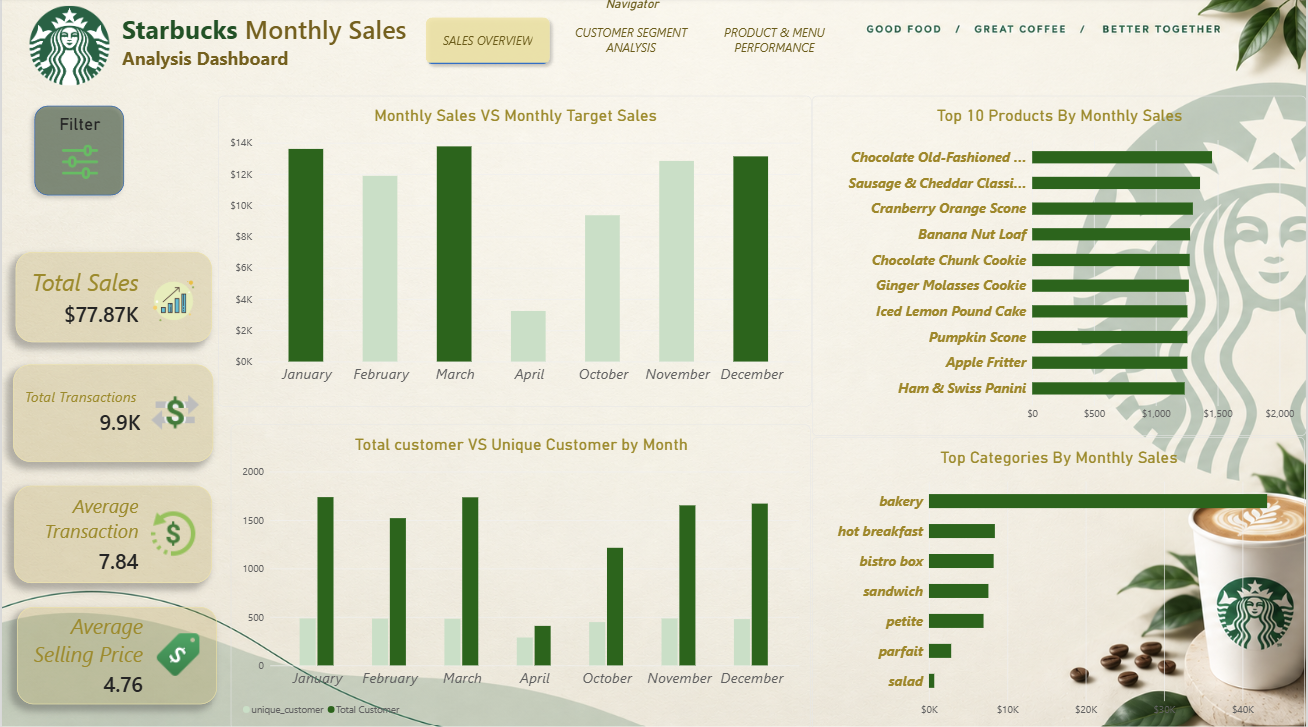

The page's visual inventory and layout, read from the dashboard file:
{"tool":"powerbi","page":{"name":"SALES OVERVIEW","canvas":[1920,1080],"ordinal":0},"visuals":[{"type":"textbox","box":[176.3,22.5,437,86.3],"z":0},{"type":"shape","box":[36.9,149.7,154,154],"z":0,"group":"g1"},{"type":"image","box":[35,12.9,128.8,117.8],"z":1000},{"type":"image","title":"Filter","box":[39.8,173.5,148.8,95.2],"z":1000,"group":"g1"},{"type":"cardVisual","fields":{"Data":["Table.Total Sales"]},"box":[20.2,375.5,289,132.5],"z":2000},{"type":"columnChart","title":"Monthly Sales VS Monthly Target Sales","fields":{"Category":["Calender.datetime.Variation.Date Hierarchy.Month"],"Y":["Table.Total Sales"]},"box":[318.8,146.3,873.9,457.6],"z":3000},{"type":"clusteredColumnChart","title":"Total customer VS Unique Customer by Month","fields":{"Category":["Calender.datetime.Variation.Date Hierarchy.Month"],"Y":["public sales.unique_customer","Table.Total Customer"]},"box":[336.8,629.5,854,450.9],"z":4000},{"type":"barChart","title":"Top 10 Products By Monthly Sales","fields":{"Category":["public items.item"],"Y":["Table.Total Sales"]},"box":[1192.7,146.3,727.6,500.7],"z":5000},{"type":"barChart","title":"Top Categories By Monthly Sales","fields":{"Category":["public items.type"],"Y":["Table.Total Sales"]},"box":[1192.7,647,725.8,433.2],"z":6000},{"type":"cardVisual","fields":{"Data":["Table.Total Transactions"]},"box":[15.9,540.7,294.5,143.6],"z":7000},{"type":"cardVisual","fields":{"Data":["Table.Average Transaction Value"]},"box":[18.2,720.1,290.8,143.6],"z":8000},{"type":"cardVisual","fields":{"Data":["Table.Average Selling Price"]},"box":[22.7,897.3,294.5,143.6],"z":9000},{"type":"group","id":"g1","title":"slicerpanelhidden","box":[36.9,149.7,154,154],"z":10000},{"type":"pageNavigator","title":"Navigator","box":[614.4,0,625.6,108],"z":11001}]}

Visuals, with their boxes in screenshot pixels (x1, y1, x2, y2), scaled from the page's 1920x1080 canvas onto the 1308x727 screenshot:
textbox: 120, 15, 418, 73
shape: 25, 101, 130, 204
image: 24, 9, 112, 88
"Filter" image: 27, 117, 128, 181
cardVisual - Table.Total Sales: 14, 253, 211, 342
"Monthly Sales VS Monthly Target Sales" columnChart: 217, 98, 813, 407
"Total customer VS Unique Customer by Month" clusteredColumnChart: 229, 424, 811, 726
"Top 10 Products By Monthly Sales" barChart: 813, 98, 1307, 436
"Top Categories By Monthly Sales" barChart: 813, 436, 1307, 726
cardVisual - Table.Total Transactions: 11, 364, 211, 461
cardVisual - Table.Average Transaction Value: 12, 485, 211, 581
cardVisual - Table.Average Selling Price: 15, 604, 216, 701
"slicerpanelhidden" group: 25, 101, 130, 204
"Navigator" pageNavigator: 419, 0, 845, 73
